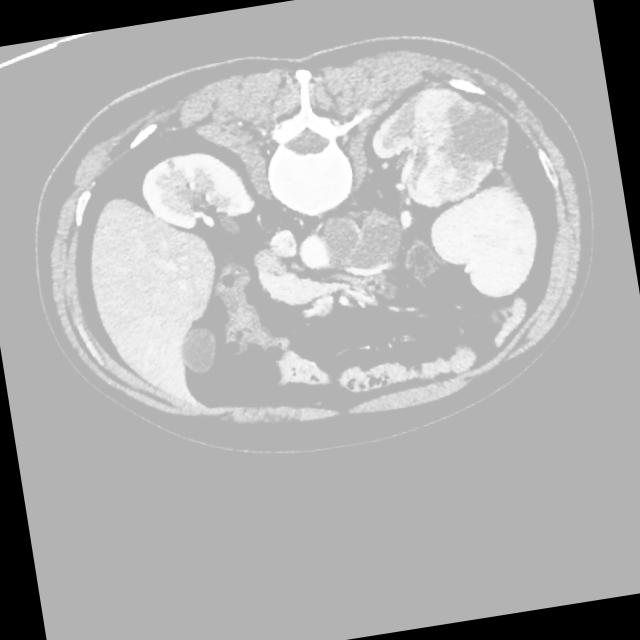TUMOR: (79, 76, 543, 394)
